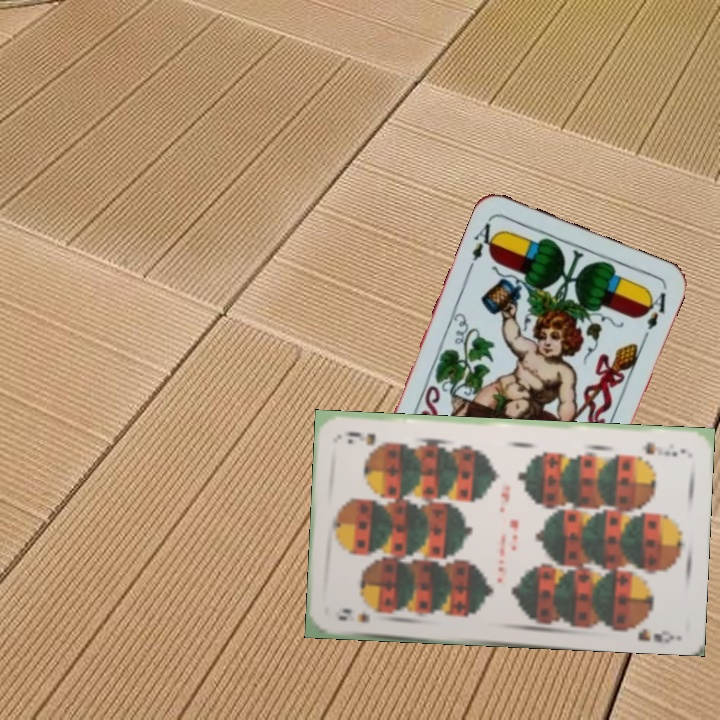EA: (464, 215, 501, 272)
S9: (639, 438, 688, 459), (334, 605, 372, 625)
